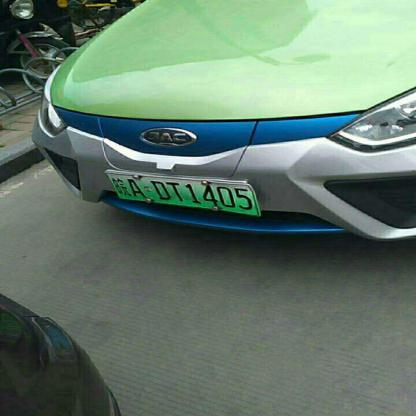lp: (104, 172, 261, 217)
